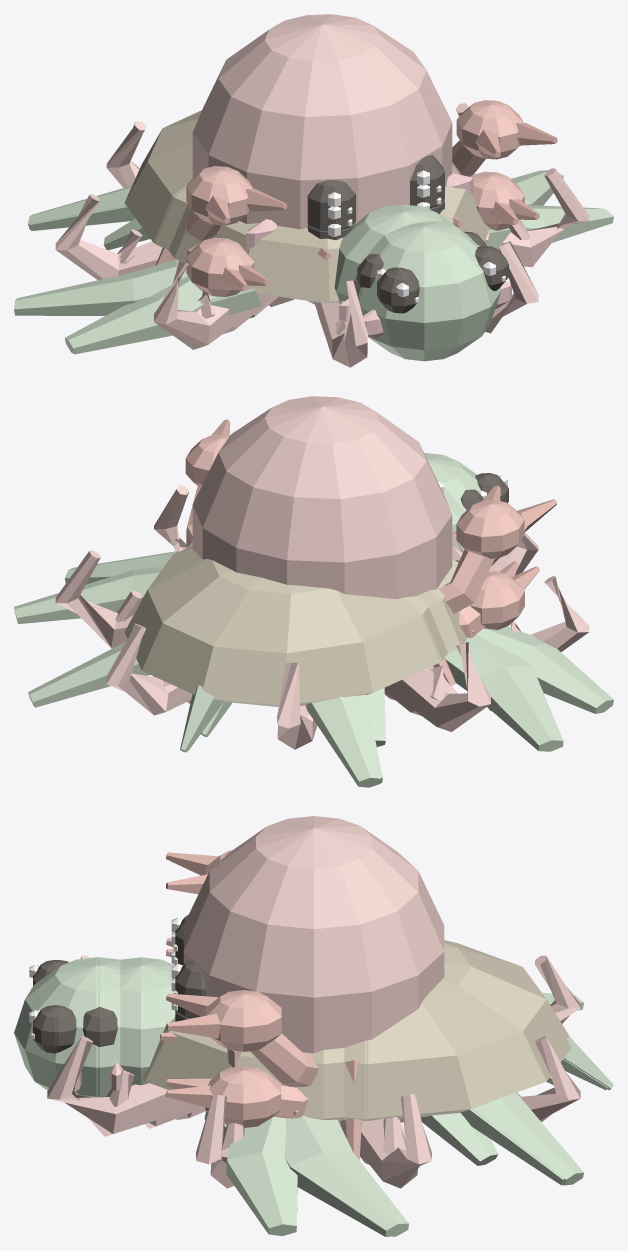
File: critters.glb
3 views of the same model, one above another, from view 1: azimuth 30°, elevation 25°; view 2: azimuth 150°, elevation 25°; view 3: azimuth 270°, elevation 25° (orthographic). The views are drawn at different scales.
Parts seen in each view (by area): view 1: octopus_crawl, turtle_crawl, turtle_tuck, crab_crawl, turtle_rest, crab_rest, octopus_rest, octopus_tuck; view 2: octopus_crawl, turtle_crawl, crab_crawl, turtle_rest, octopus_rest, turtle_tuck, crab_rest; view 3: octopus_crawl, turtle_crawl, turtle_tuck, turtle_rest, crab_crawl, crab_rest, octopus_rest, octopus_tuck.
Boxes of the visible parts, bbox=[...] form: octopus_crawl: bbox=[55, 14, 589, 367]; turtle_crawl: bbox=[14, 110, 563, 361]; turtle_tuck: bbox=[103, 165, 510, 321]; crab_crawl: bbox=[155, 100, 557, 265]; turtle_rest: bbox=[29, 187, 613, 354]; crab_rest: bbox=[186, 171, 539, 296]; octopus_rest: bbox=[117, 135, 529, 334]; octopus_tuck: bbox=[240, 152, 453, 318]; octopus_crawl: bbox=[55, 396, 589, 749]; turtle_crawl: bbox=[14, 452, 563, 787]; crab_crawl: bbox=[178, 419, 557, 686]; turtle_rest: bbox=[29, 464, 613, 782]; octopus_rest: bbox=[115, 517, 520, 716]; turtle_tuck: bbox=[188, 487, 510, 746]; crab_rest: bbox=[186, 529, 539, 637]; octopus_crawl: bbox=[47, 816, 580, 1188]; turtle_crawl: bbox=[14, 940, 613, 1236]; turtle_tuck: bbox=[82, 957, 553, 1165]; turtle_rest: bbox=[37, 957, 608, 1236]; crab_crawl: bbox=[166, 850, 361, 1159]; crab_rest: bbox=[166, 938, 308, 1127]; octopus_rest: bbox=[106, 932, 520, 1164]; octopus_tuck: bbox=[171, 950, 419, 1119].
Bounding box in the file's own units: 0.0823 × 0.0364 × 0.0728.
